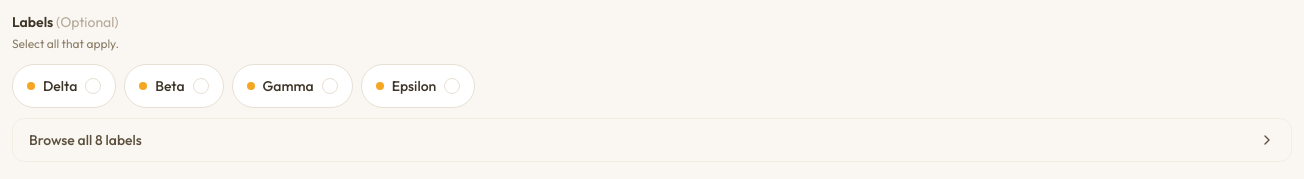
Test: LabelPicker › keeps pinned and frequently used quick choices in stable positions while toggling
What coordinates should you click on to do the following:
click the button "Beta"
I would click on:
 (174, 86)
Its box is left=124, top=64, right=224, bottom=108.
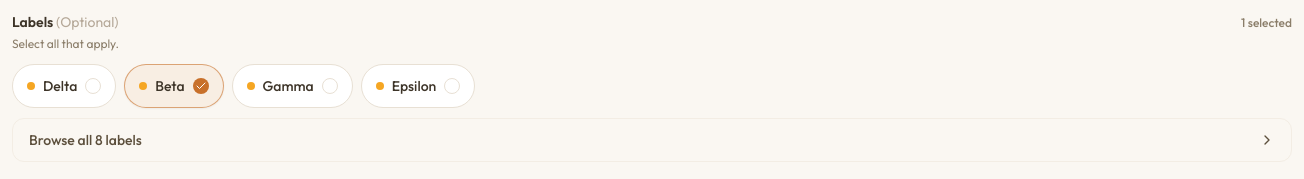
Result: the text "1 selected" is shown at left=1241, top=15, right=1292, bottom=31
